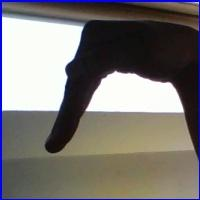A: (40, 18, 194, 173)
